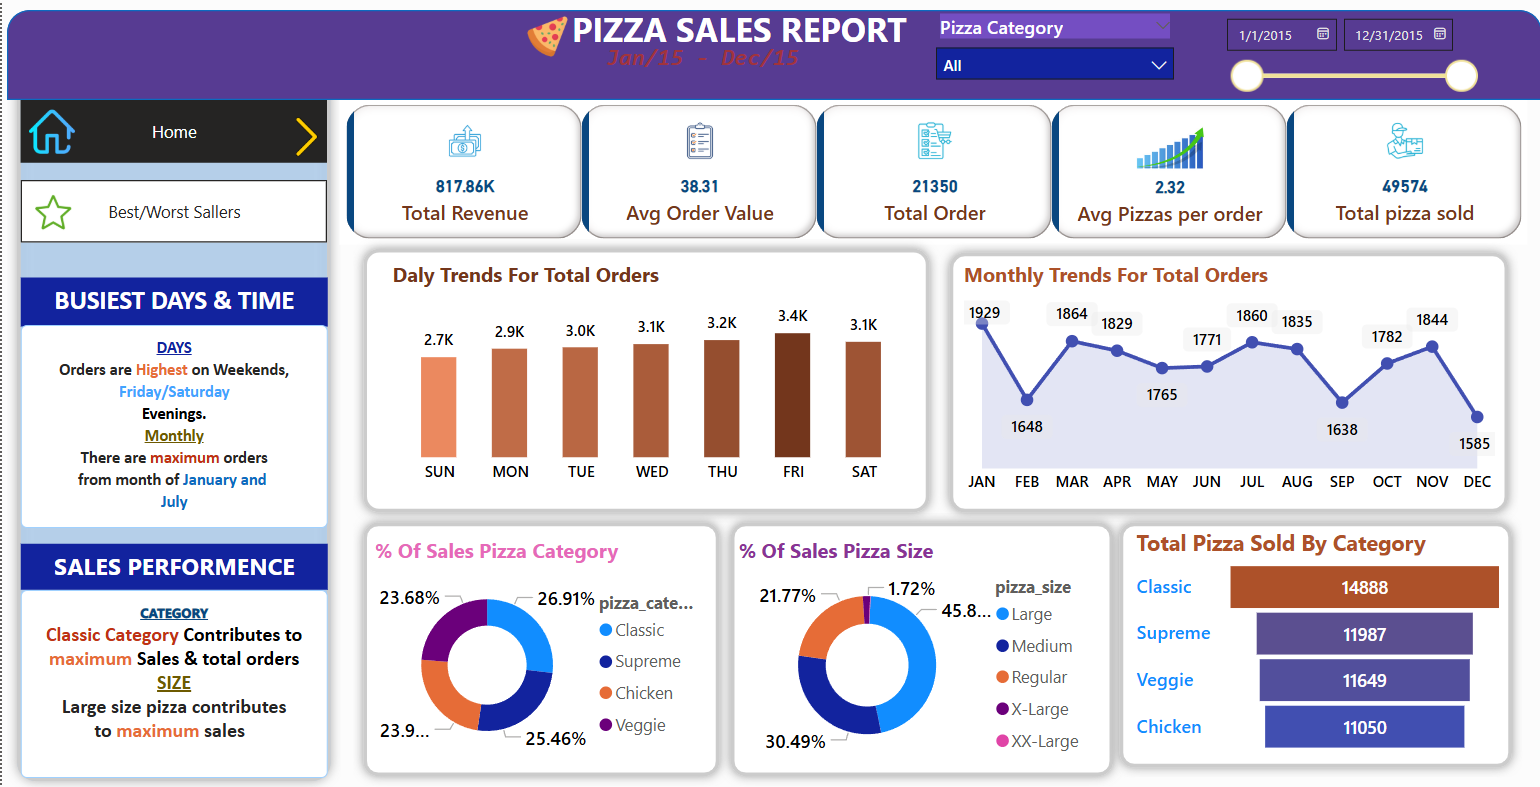

This screenshot's page, from the dashboard's own definition file:
{"tool":"powerbi","page":{"name":"Home","canvas":[1232,633],"ordinal":0},"visuals":[{"type":"shape","box":[4,53,267,580],"z":0},{"type":"textbox","box":[15,222,245,39],"z":1000},{"type":"cardVisual","fields":{"Data":["pizza_db pizzasales.Total Revenue","pizza_db pizzasales.Avg Order Value","pizza_db pizzasales.Total Order","pizza_db pizzasales.Avg Pizzas per order","pizza_db pizzasales.Total pizza sold"]},"box":[270,79,950,117],"z":2000},{"type":"shape","box":[4,8,1228,72],"z":3000},{"type":"textbox","box":[439,0,301,48],"z":4000},{"type":"textbox","box":[429,30,262,50],"z":5000},{"type":"image","box":[414,2,44,55],"z":6000},{"type":"shape","box":[281,191,469,227],"z":7000},{"type":"columnChart","title":"Daly Trends For Total Orders","fields":{"Category":["pizza_db pizzasales.Order Day"],"Y":["pizza_db pizzasales.Total Order"]},"box":[307,208,425,188],"z":8000},{"type":"shape","box":[750,194,463,224],"z":9000},{"type":"areaChart","title":"Monthly Trends For Total Orders","fields":{"Category":["pizza_db pizzasales.Order Month"],"Y":["pizza_db pizzasales.Total Order"]},"box":[764,208,435,196],"z":10000},{"type":"shape","box":[281,410,301,219],"z":11000},{"type":"shape","box":[575,410,322,219],"z":12000},{"type":"shape","box":[886,410,330,212],"z":13000},{"type":"donutChart","title":"%  Of Sales Pizza Category","fields":{"Category":["pizza_db pizzasales.pizza_category"],"Y":["pizza_db pizzasales.Total Revenue"]},"box":[293,429,274,185],"z":14000},{"type":"donutChart","title":"%  Of Sales Pizza Size","fields":{"Y":["pizza_db pizzasales.Total Revenue"],"Category":["pizza_db pizzasales.pizza_size"]},"box":[584,429,295,185],"z":15000},{"type":"funnel","title":"Total Pizza Sold By Category","fields":{"Category":["pizza_db pizzasales.pizza_category"],"Y":["pizza_db pizzasales.Total pizza sold"]},"box":[902,422,305,185],"z":16000},{"type":"textbox","box":[15,260,245,162],"z":17000},{"type":"textbox","box":[15,435,245,37],"z":18000},{"type":"textbox","box":[15,472,245,150],"z":19000},{"type":"slicer","fields":{"Values":["pizza_db pizzasales.pizza_category"]},"box":[736,6,208,59],"z":20000},{"type":"slicer","fields":{"Values":["pizza_db pizzasales.order_date"]},"box":[964,3,222,70],"z":21000},{"type":"pageNavigator","box":[15,80,245,50],"z":21001},{"type":"pageNavigator","box":[15,144,245,50],"z":21002},{"type":"image","box":[217,89,53,41],"z":21003},{"type":"image","box":[21,149,39,42],"z":21004},{"type":"image","box":[16,79,47,53],"z":21005}]}

Visuals, with their boxes in screenshot pixels (x1, y1, x2, y2), scaled from the page's 1232x633 canvas onto the 1540x787 screenshot:
shape: box=[5, 66, 339, 786]
textbox: box=[19, 276, 325, 324]
cardVisual - pizza_db pizzasales.Total Revenue x pizza_db pizzasales.Avg Order Value: box=[338, 98, 1525, 244]
shape: box=[5, 10, 1539, 99]
textbox: box=[549, 0, 925, 60]
textbox: box=[536, 37, 864, 99]
image: box=[518, 2, 572, 71]
shape: box=[351, 237, 938, 520]
"Daly Trends For Total Orders" columnChart: box=[384, 259, 915, 492]
shape: box=[938, 241, 1516, 520]
"Monthly Trends For Total Orders" areaChart: box=[955, 259, 1499, 502]
shape: box=[351, 510, 728, 782]
shape: box=[719, 510, 1121, 782]
shape: box=[1108, 510, 1520, 773]
"%  Of Sales Pizza Category" donutChart: box=[366, 533, 709, 763]
"%  Of Sales Pizza Size" donutChart: box=[730, 533, 1099, 763]
"Total Pizza Sold By Category" funnel: box=[1128, 525, 1509, 755]
textbox: box=[19, 323, 325, 525]
textbox: box=[19, 541, 325, 587]
textbox: box=[19, 587, 325, 773]
slicer - pizza_db pizzasales.pizza_category: box=[920, 7, 1180, 81]
slicer - pizza_db pizzasales.order_date: box=[1205, 4, 1482, 91]
pageNavigator: box=[19, 99, 325, 162]
pageNavigator: box=[19, 179, 325, 241]
image: box=[271, 111, 338, 162]
image: box=[26, 185, 75, 237]
image: box=[20, 98, 79, 164]
